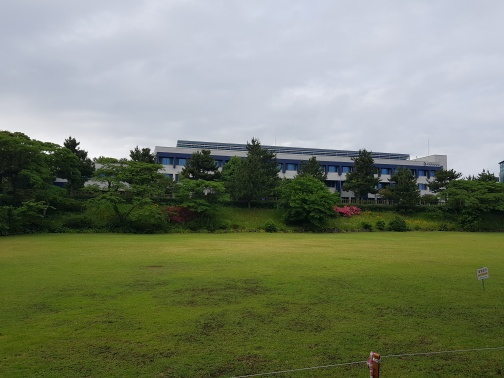College of Social Sciences: (151, 135, 454, 205)
